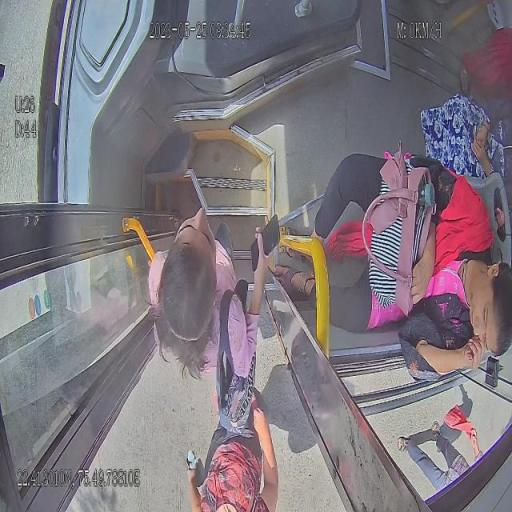persona: (267, 146, 511, 382), (148, 206, 280, 375), (187, 380, 280, 511), (397, 402, 483, 493)
